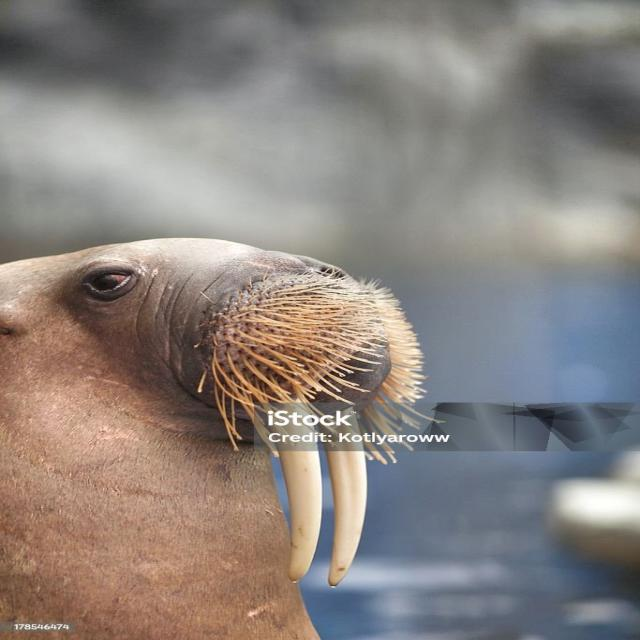walrus: (7, 227, 439, 638)
